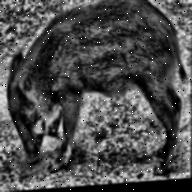boar: (1, 0, 186, 182)
